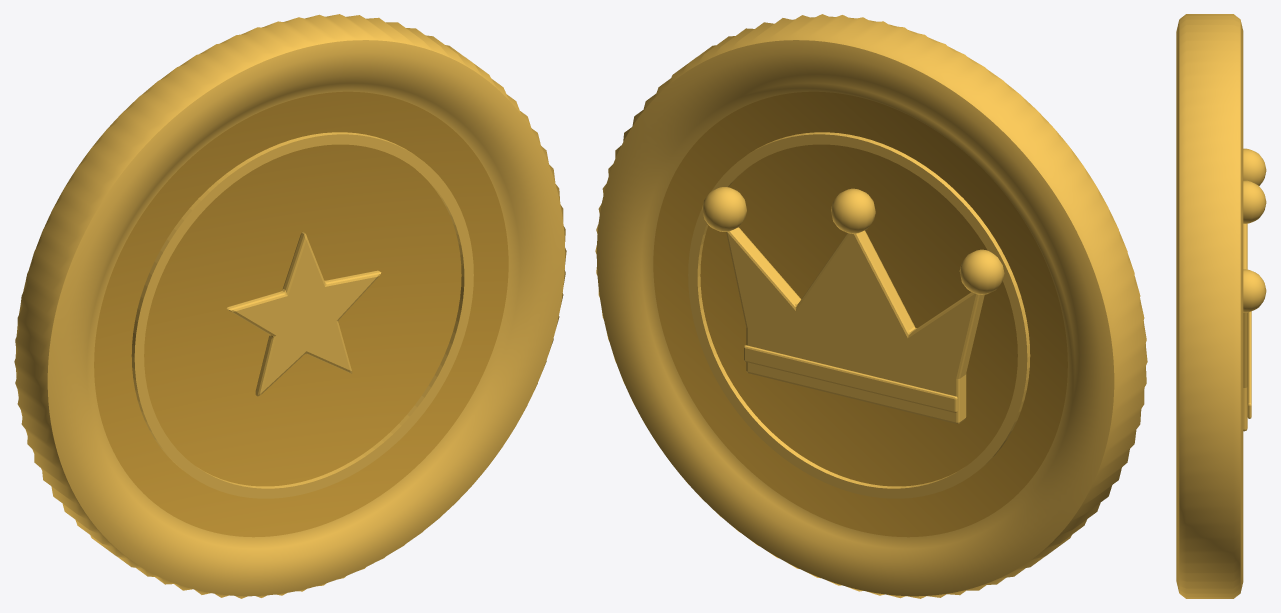
File: coin.glb
3 views of the same model, side by side, from view 1: azimuth 30°, elevation 25°; view 2: azimuth 150°, elevation 25°; view 3: azimuth 270°, elevation 25° (orthographic). The views are drawn at different scales.
Parts seen in each view (by area): view 1: coin; view 2: coin; view 3: coin.
Part boxes in pixels (box(x1,y1,x2,y2)): coin: box(14, 14, 566, 598); coin: box(595, 14, 1147, 598); coin: box(1176, 14, 1266, 598).
Size of the model in its own units: 0.84 by 0.84 by 0.1292.
